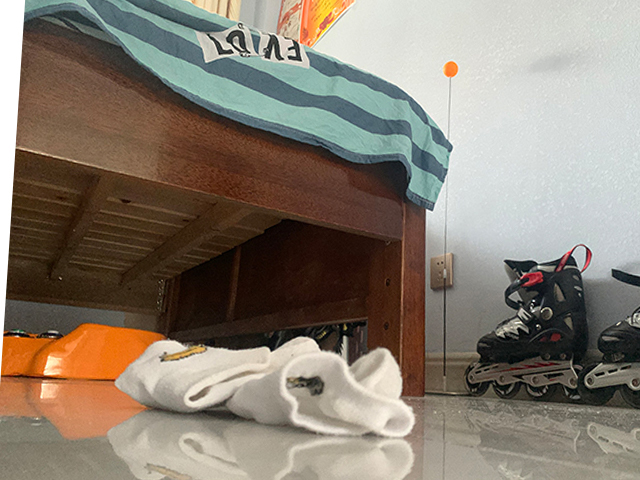bed: (7, 1, 456, 392)
socks: (244, 338, 420, 437), (114, 340, 258, 411)
